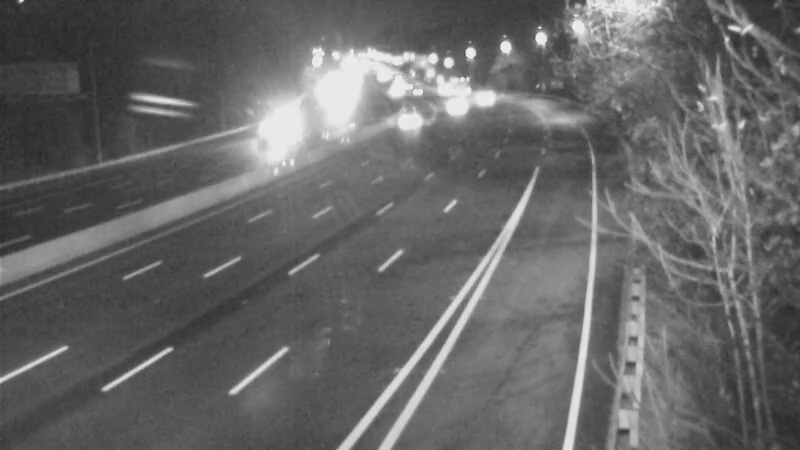vehicle: (458, 69, 508, 119), (425, 79, 475, 129), (380, 98, 430, 148), (236, 124, 286, 174)
